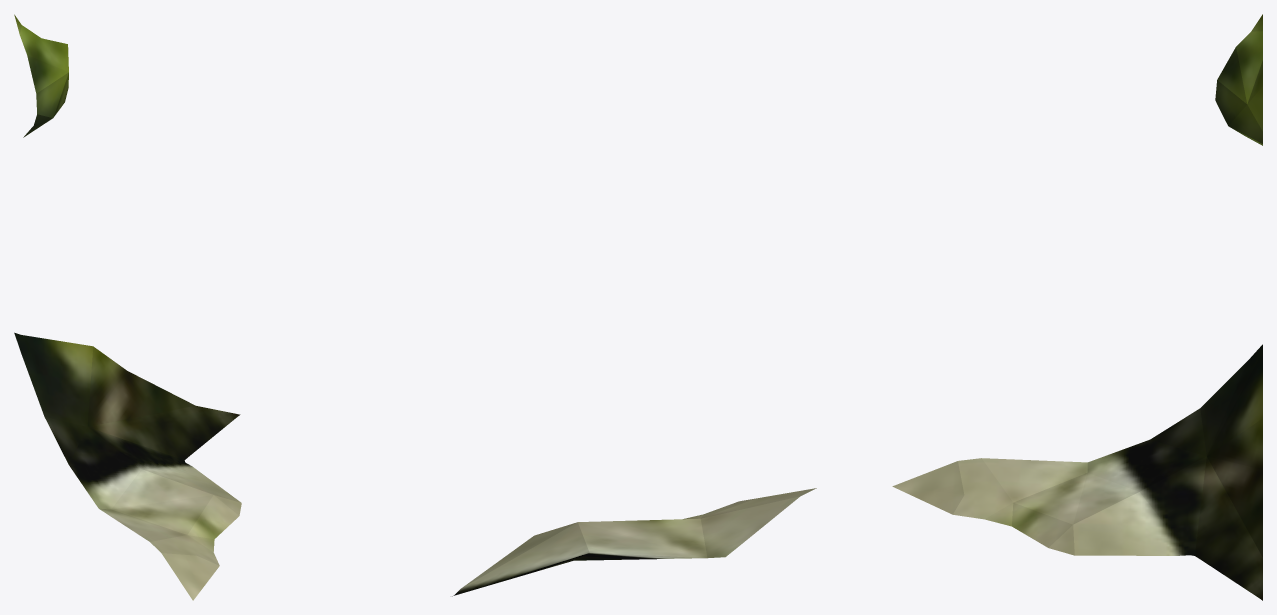
3 views of the same model, side by side, from view 1: azimuth 30°, elevation 25°; view 2: azimuth 150°, elevation 25°; view 3: azimuth 270°, elevation 25° (orthographic). The views are drawn at different scales.
Bounding box in the file's own units: 0.316 × 0.6079 × 0.4324.
Materials: 1 (1 with a texture image).
